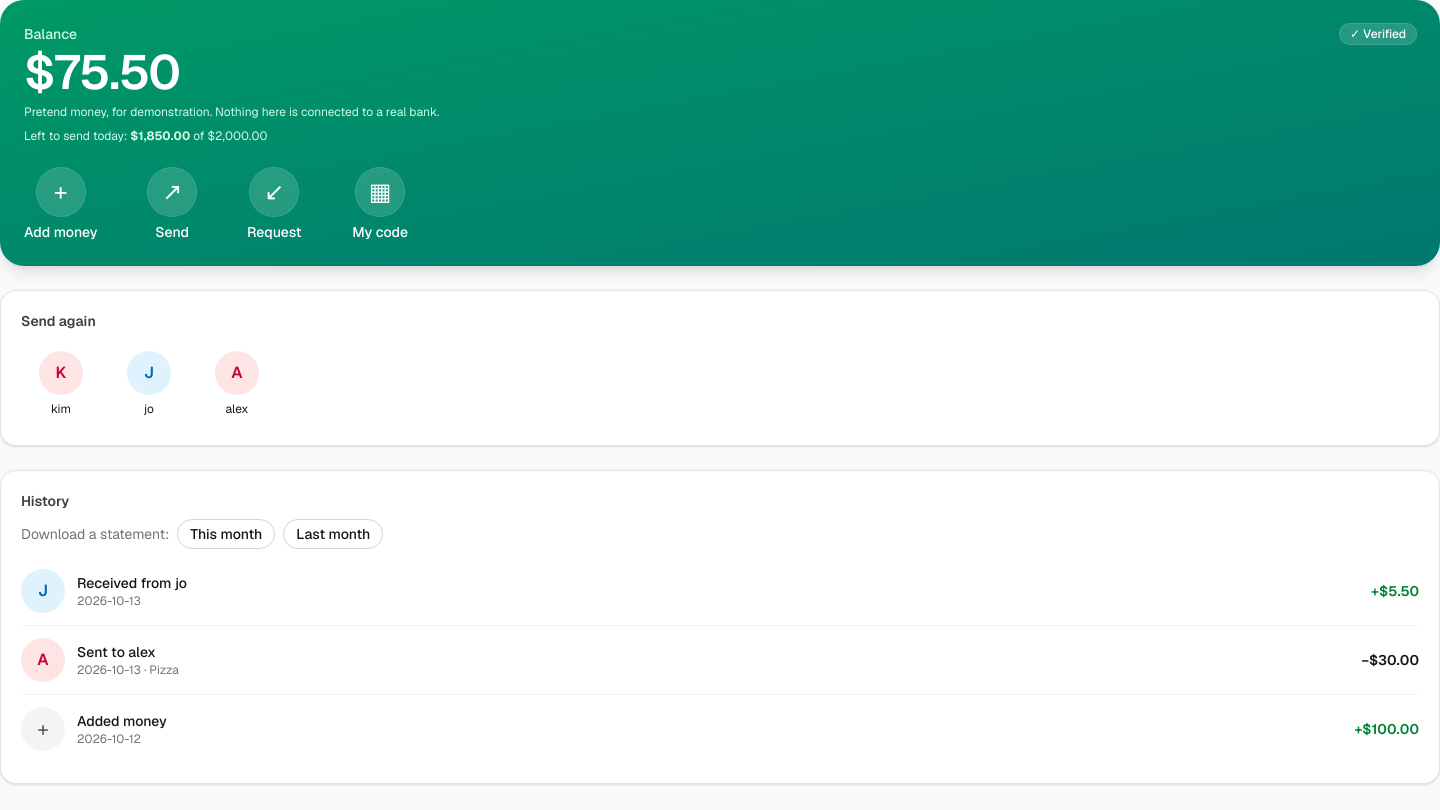
a request that cannot be made says why and stays on the step
The image size is (1440, 810).
Step 1. Click the button "↙ Request" → x=274, y=205, box [247, 168, 302, 242]
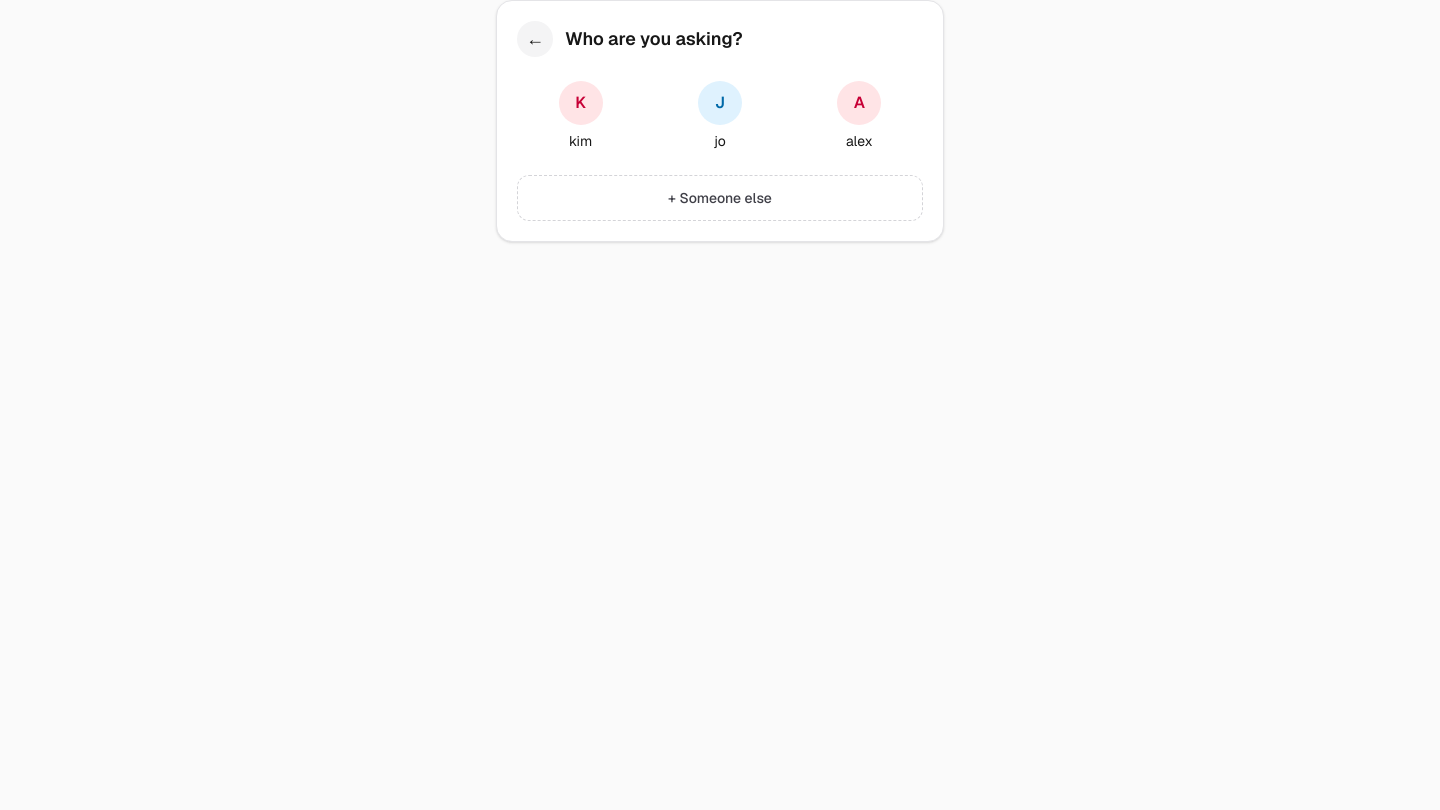
Step 2. Click the button with aria-label "Request from alex@example.com" → x=859, y=116, box [796, 73, 923, 159]
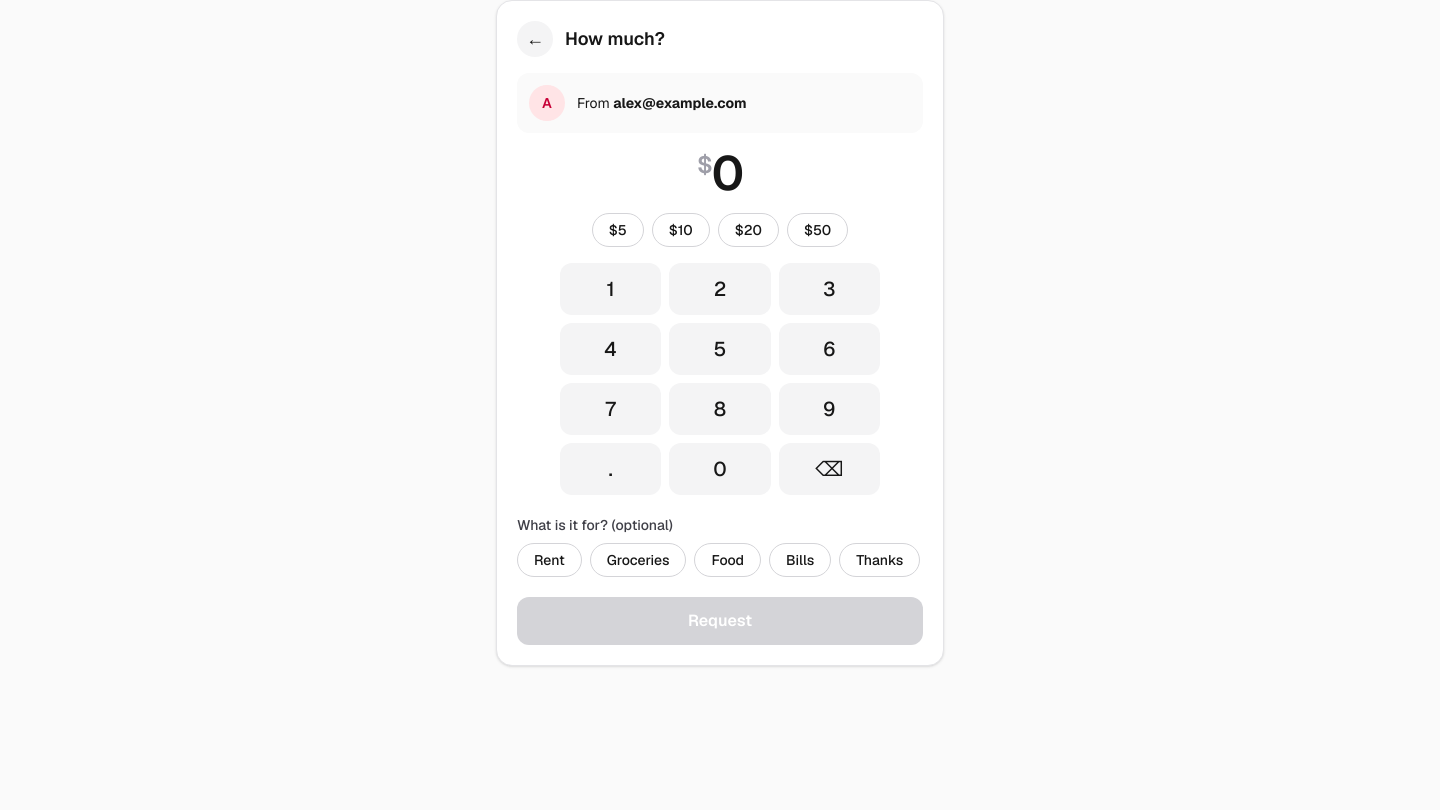
Step 3. Click the button "$5" → x=618, y=230, box [592, 213, 644, 247]
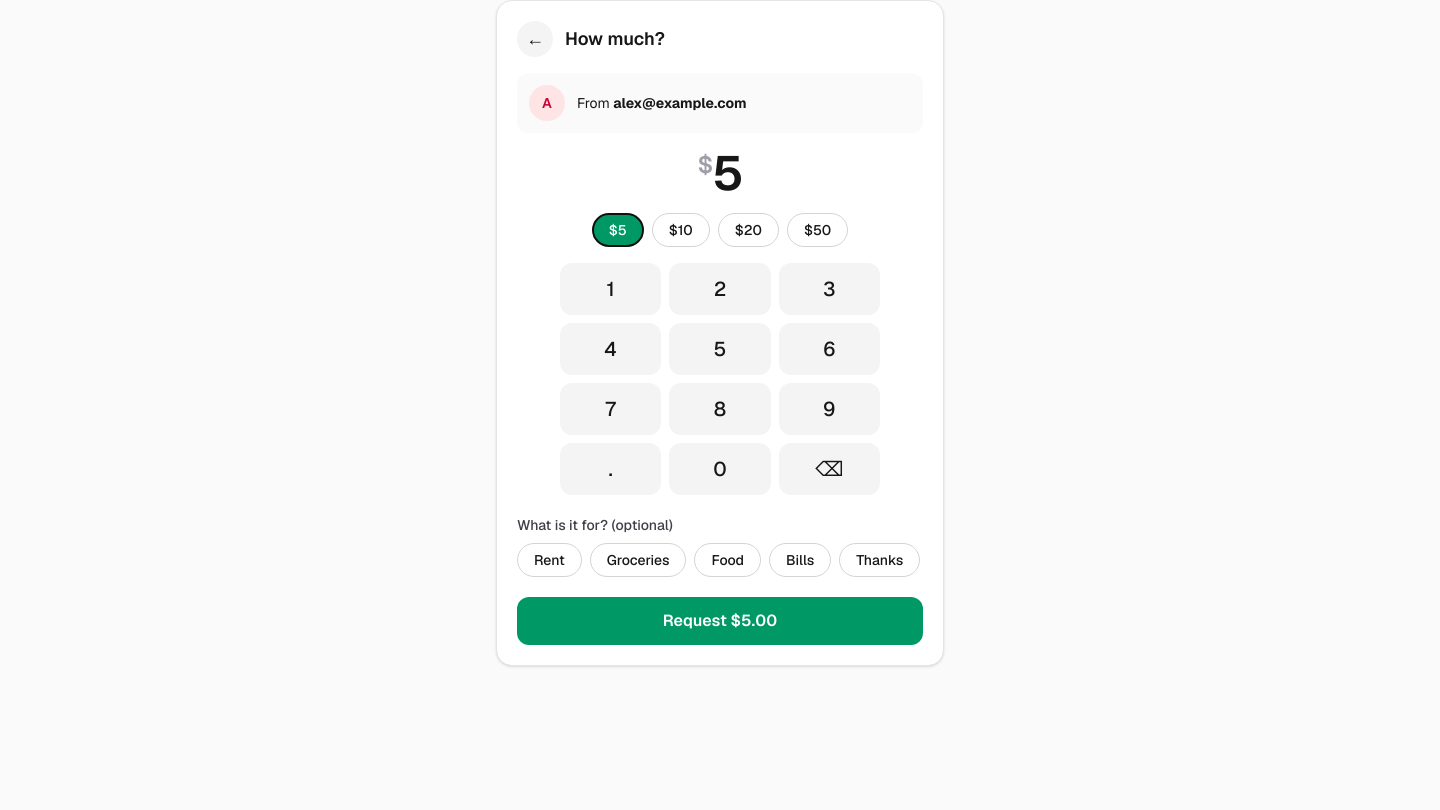
Step 4. Click the button "Request $5.00" → x=720, y=621, box [517, 597, 923, 645]
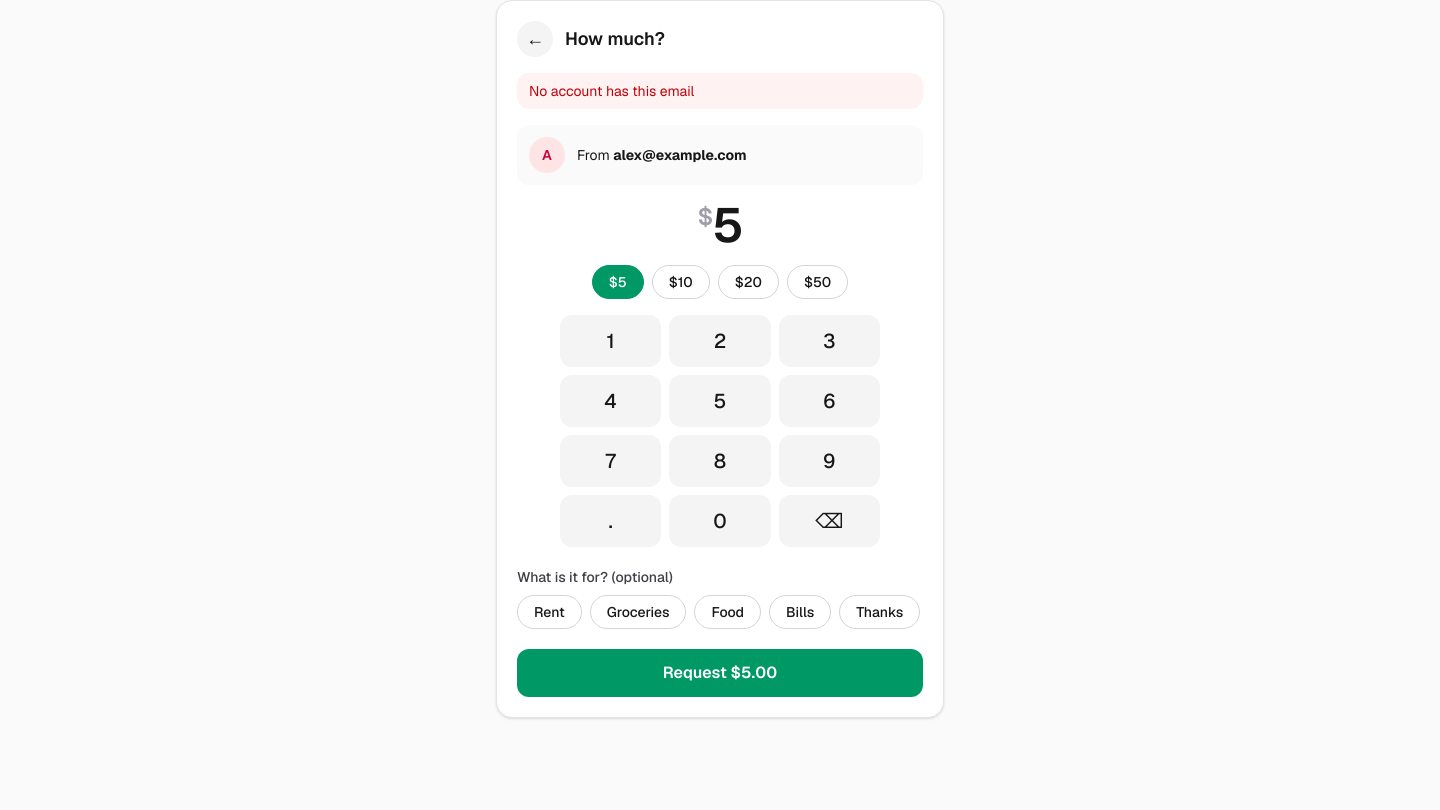
Expected: the element named "Request money" is shown, [496, 0, 944, 718]
Expected: the message reads "No account has this email", [529, 82, 694, 100]
